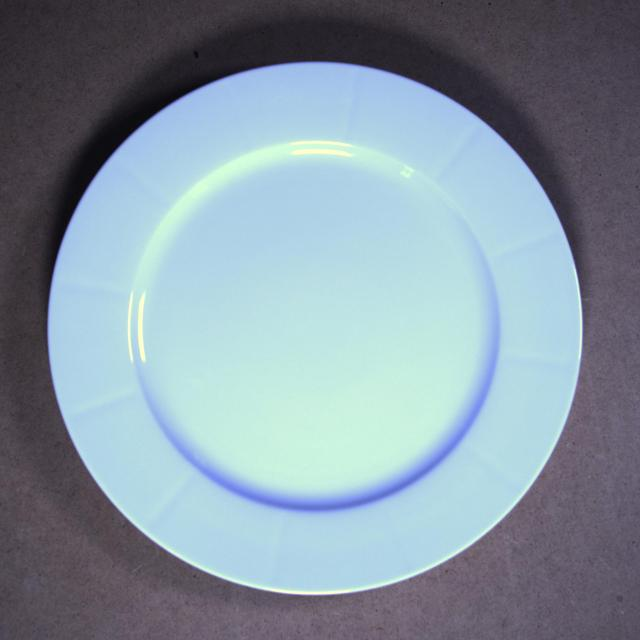plate: (49, 62, 582, 594)
